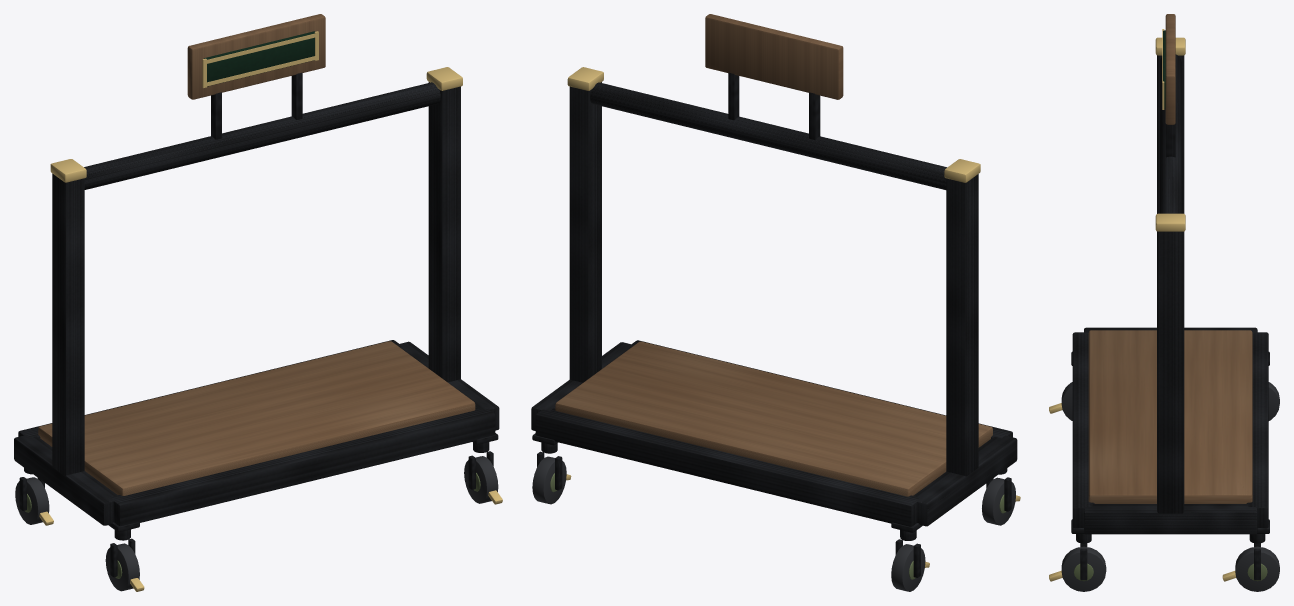
Rendered from garment_rack.glb.
3 views of the same model, side by side, from view 1: azimuth 30°, elevation 25°; view 2: azimuth 150°, elevation 25°; view 3: azimuth 270°, elevation 25° (orthographic). The views are drawn at different scales.
Visible parts, largest first — view 1: garment_rack_body; view 2: garment_rack_body; view 3: garment_rack_body.
Part boxes in pixels (left/top/right/bottom): garment_rack_body: left=14, top=14, right=502, bottom=591; garment_rack_body: left=531, top=14, right=1020, bottom=591; garment_rack_body: left=1049, top=14, right=1279, bottom=591.
Size of what is drawn, in the model's own units: 0.89 by 1.03 by 0.465.
6 materials, 3 textured.
